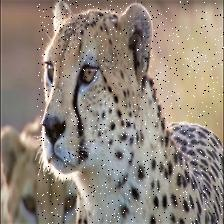Cheetha: (37, 0, 224, 224)
